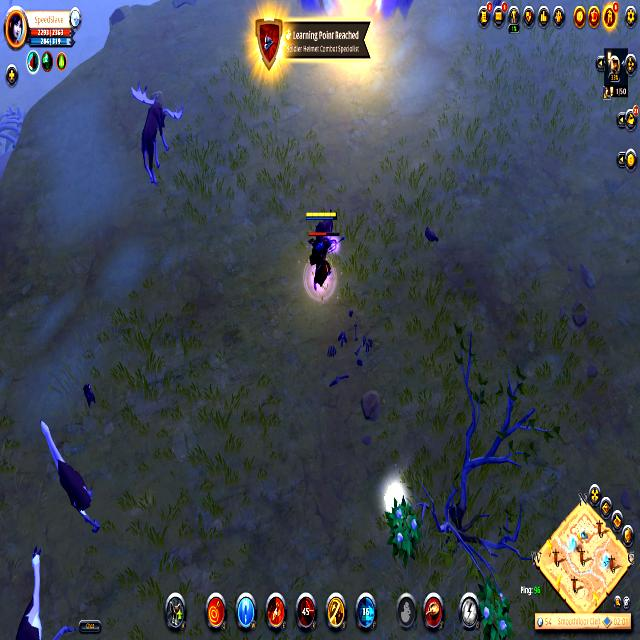hide: (385, 494, 424, 566), (474, 575, 512, 640)
mob: (15, 542, 72, 640)
ore: (39, 407, 100, 538), (124, 70, 187, 180), (308, 208, 338, 246)
red: (301, 207, 344, 300)
